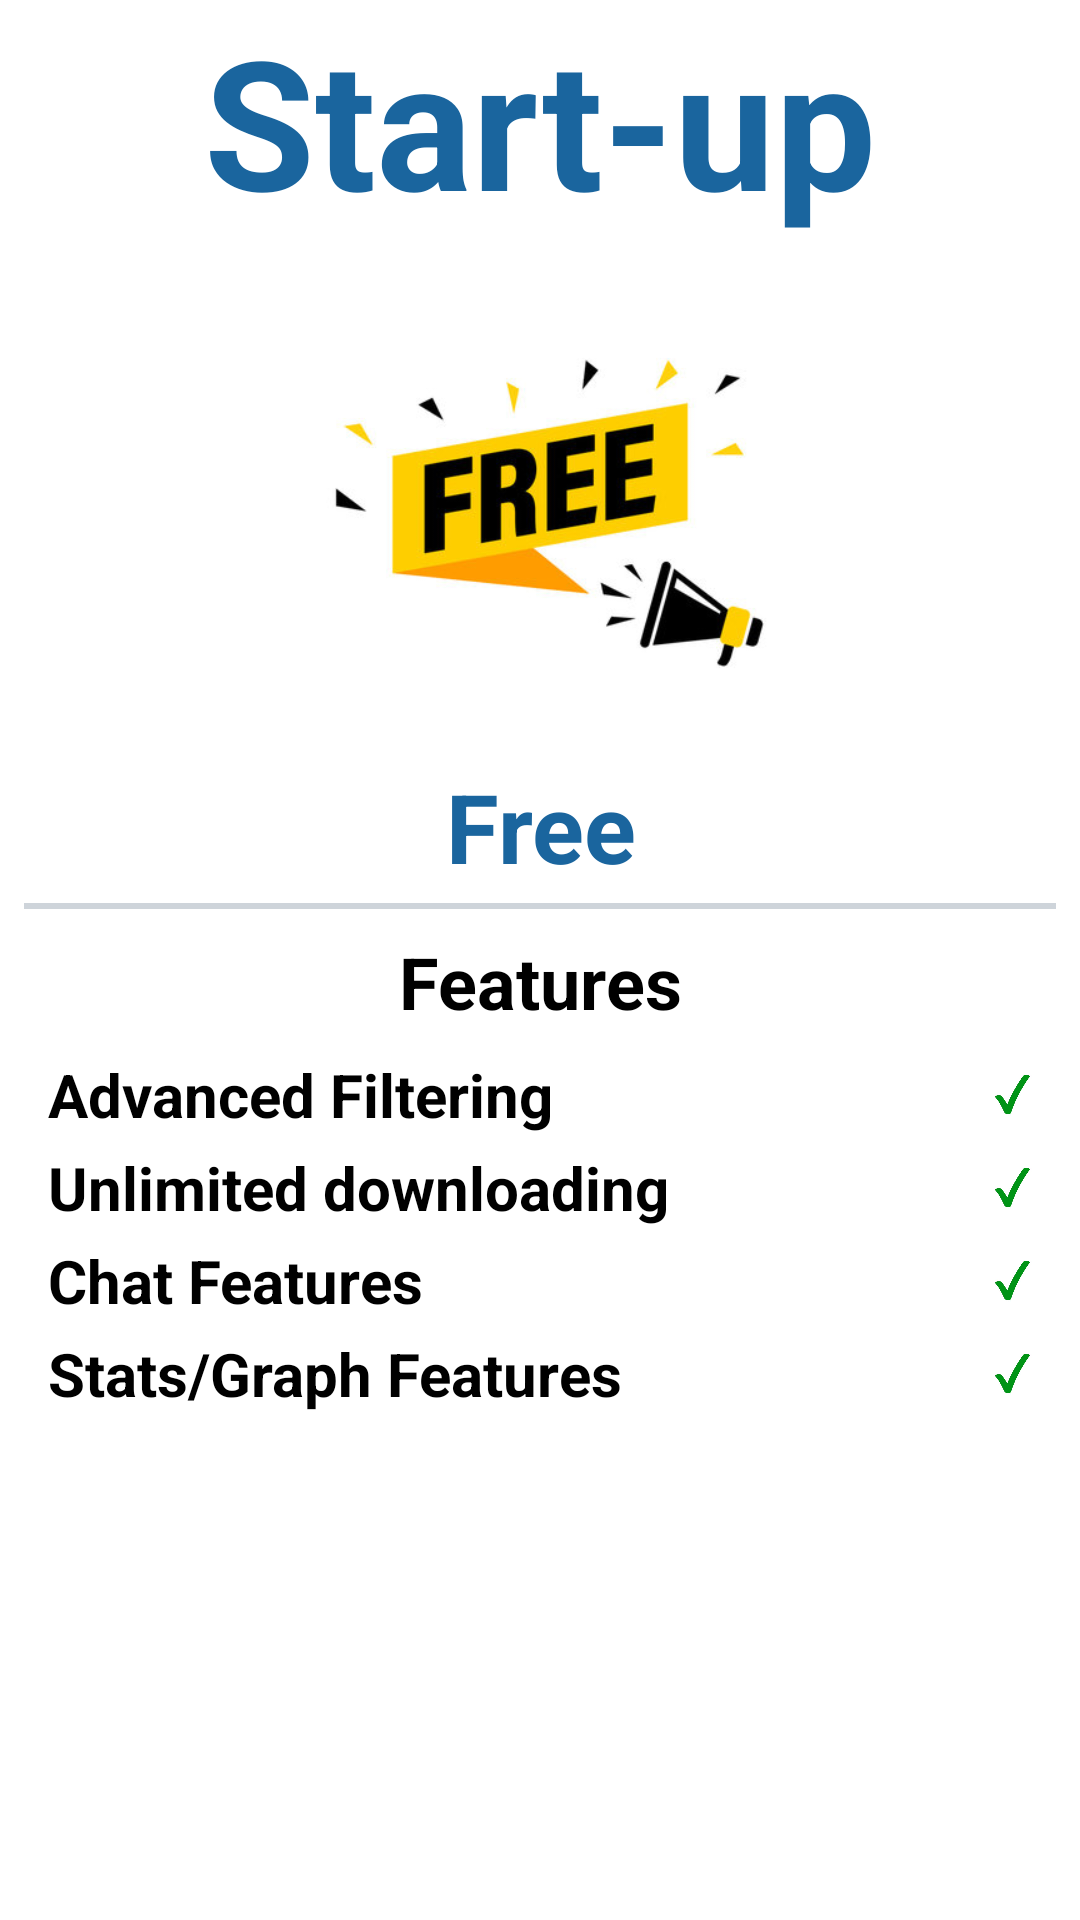

Where icons sit on this 1080 × 1920 app screen, as (x1, y1, x2, y2):
tick: (995, 1075, 1030, 1114), (995, 1168, 1030, 1207), (995, 1261, 1030, 1300), (995, 1354, 1030, 1393)
